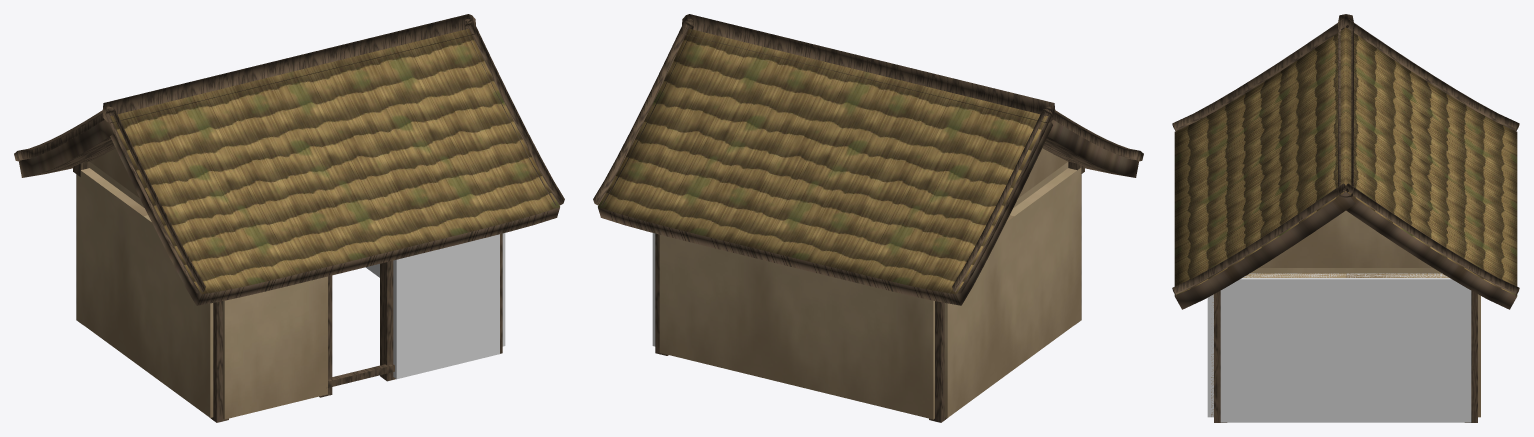
File: rustic_hut.glb
3 views of the same model, side by side, from view 1: azimuth 30°, elevation 25°; view 2: azimuth 150°, elevation 25°; view 3: azimuth 270°, elevation 25° (orthographic). The views are drawn at different scales.
Parts seen in each view (by area): view 1: HutRoof, HutWalls, Front-convcolonly.001, HutRoofRidge, HutFrame, HutGables, Side-convcolonly.001; view 2: HutRoof, HutWalls, HutRoofRidge, HutFrame, HutGables; view 3: HutRoof, Side-convcolonly.001, HutRoofRidge, HutGables, HutFrame, HutWalls, Front-convcolonly.001.
Part boxes in pixels (bbox=[...]): HutRoof: bbox=[19, 28, 559, 305]; HutWalls: bbox=[76, 168, 327, 419]; Front-convcolonly.001: bbox=[393, 234, 499, 379]; HutRoofRidge: bbox=[14, 14, 564, 293]; HutFrame: bbox=[73, 161, 502, 422]; HutGables: bbox=[89, 148, 144, 207]; Side-convcolonly.001: bbox=[366, 233, 505, 346]; HutRoof: bbox=[598, 28, 1138, 305]; HutWalls: bbox=[659, 168, 1081, 419]; HutRoofRidge: bbox=[593, 14, 1143, 293]; HutFrame: bbox=[655, 161, 1084, 422]; HutGables: bbox=[1013, 148, 1068, 207]; HutRoof: bbox=[1174, 27, 1517, 309]; Side-convcolonly.001: bbox=[1220, 273, 1471, 422]; HutRoofRidge: bbox=[1172, 14, 1519, 296]; HutGables: bbox=[1250, 210, 1441, 273]; HutFrame: bbox=[1214, 290, 1477, 422]; HutWalls: bbox=[1211, 273, 1480, 417]; Front-convcolonly.001: bbox=[1207, 294, 1213, 417].
Size of what is drawn, in the model's own units: 6.03 by 4.35 by 5.27.
Materials: 3 (3 with a texture image).
